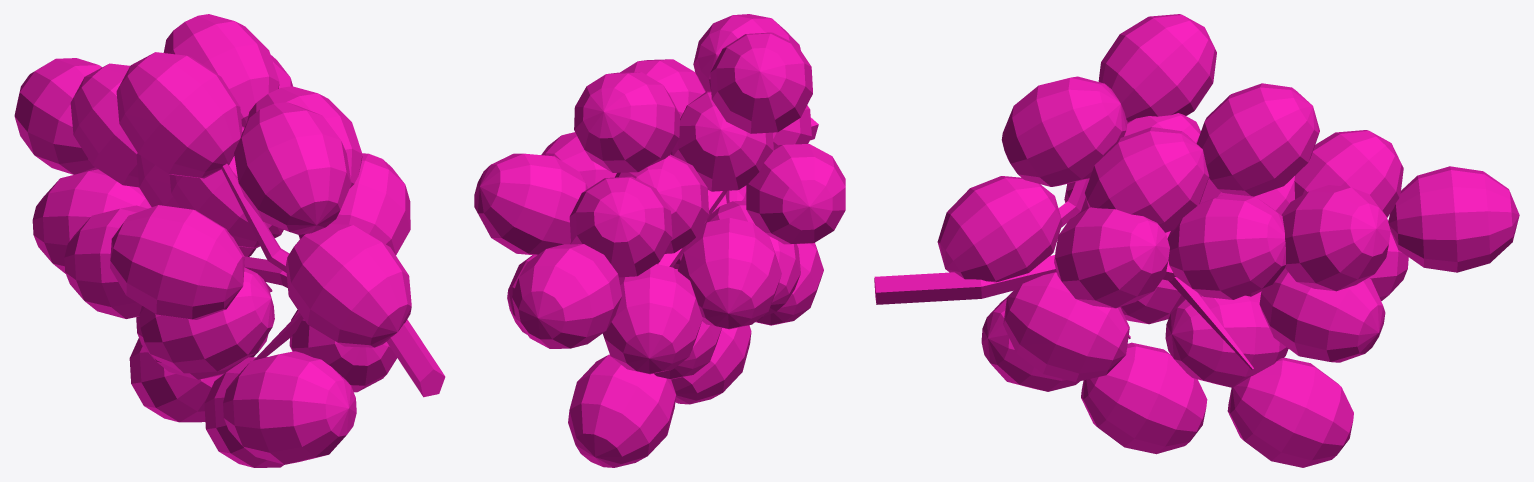
File: grape1_5.dae
3 views of the same model, side by side, from view 1: azimuth 30°, elevation 25°; view 2: azimuth 150°, elevation 25°; view 3: azimuth 270°, elevation 25° (orthographic). The views are drawn at different scales.
Parts seen in each view (by area): view 1: grape1_019; view 2: grape1_019; view 3: grape1_019.
Boxes of the visible parts, x1,y1,x2,y2 form: grape1_019: (14,14,445,467); grape1_019: (474,14,845,467); grape1_019: (874,14,1519,467).
Size of the model in its own units: 0.1 by 0.2142 by 0.1483.
